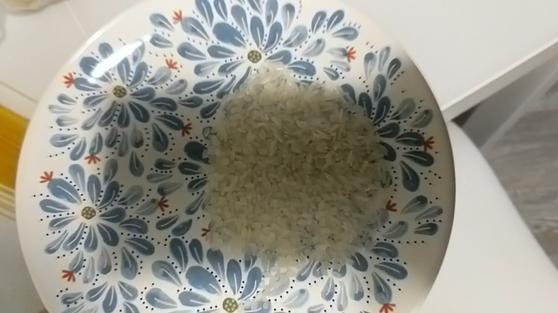rice: (203, 62, 396, 268)
